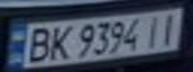3: (93, 19, 112, 56)
4: (121, 16, 145, 51)
9: (72, 20, 96, 58), (106, 18, 127, 54)
B: (21, 25, 54, 63)
I: (154, 10, 184, 45), (139, 12, 166, 47)
K: (45, 22, 75, 61)
